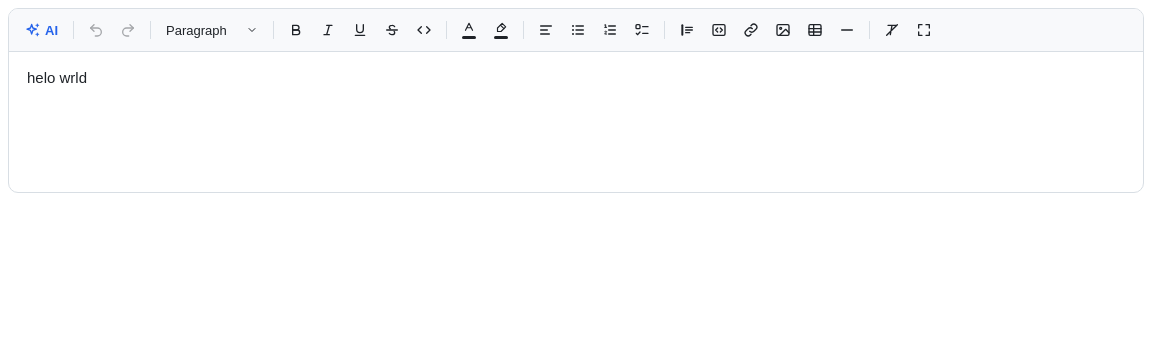
Test: AI assistant › rewrites the selection, previews it, and replaces it as one undo step
Later steps or results of the test are not shown.
Expected: the field with class "richkit-content" is shown, x1=27 y1=69 x2=87 y2=86
Click the button with aria-label "Ask AI".
click(42, 30)  # box x1=17 y1=15 x2=66 y2=45
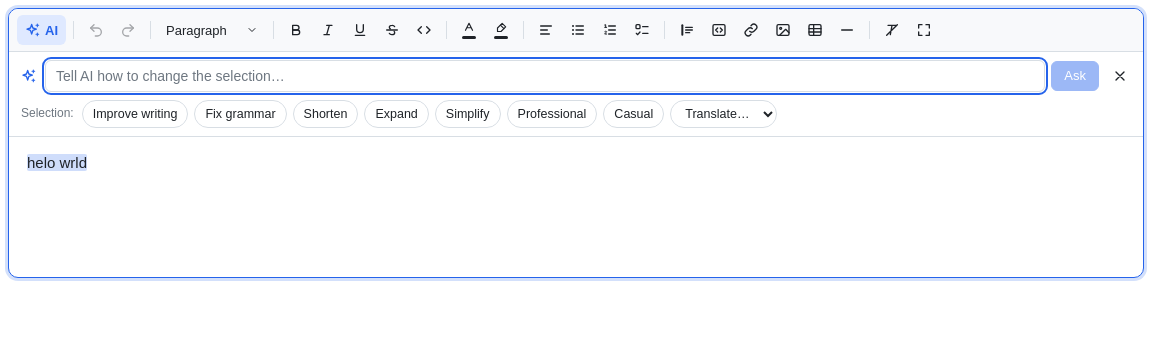
Expected: the text box with class "richkit-ai-range" reads "helo wrld", x1=27 y1=154 x2=87 y2=171
Click the button "Improve writing".
click(135, 114)  # box x1=82 y1=100 x2=188 y2=128
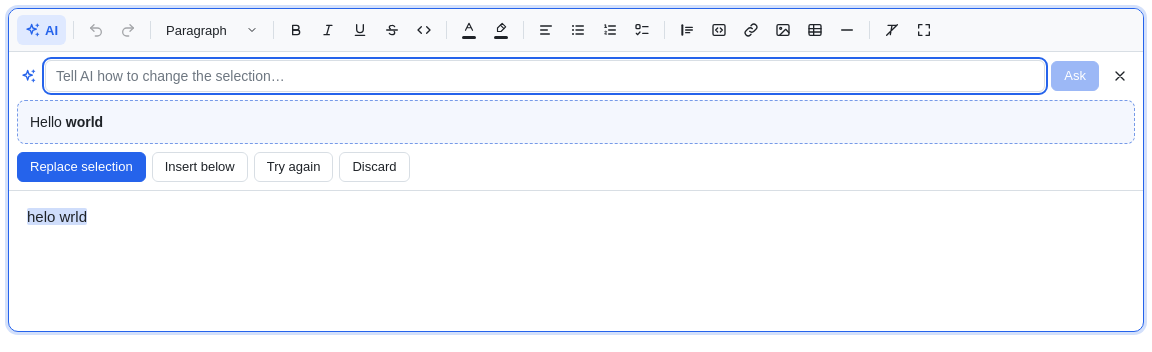
Expected: the button "Replace selection" is shown, x1=17 y1=152 x2=146 y2=182
